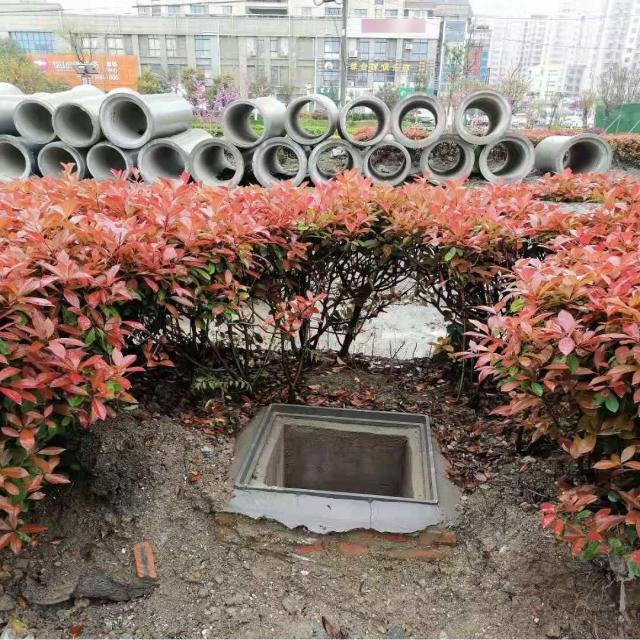Faulty: (233, 400, 442, 508)
